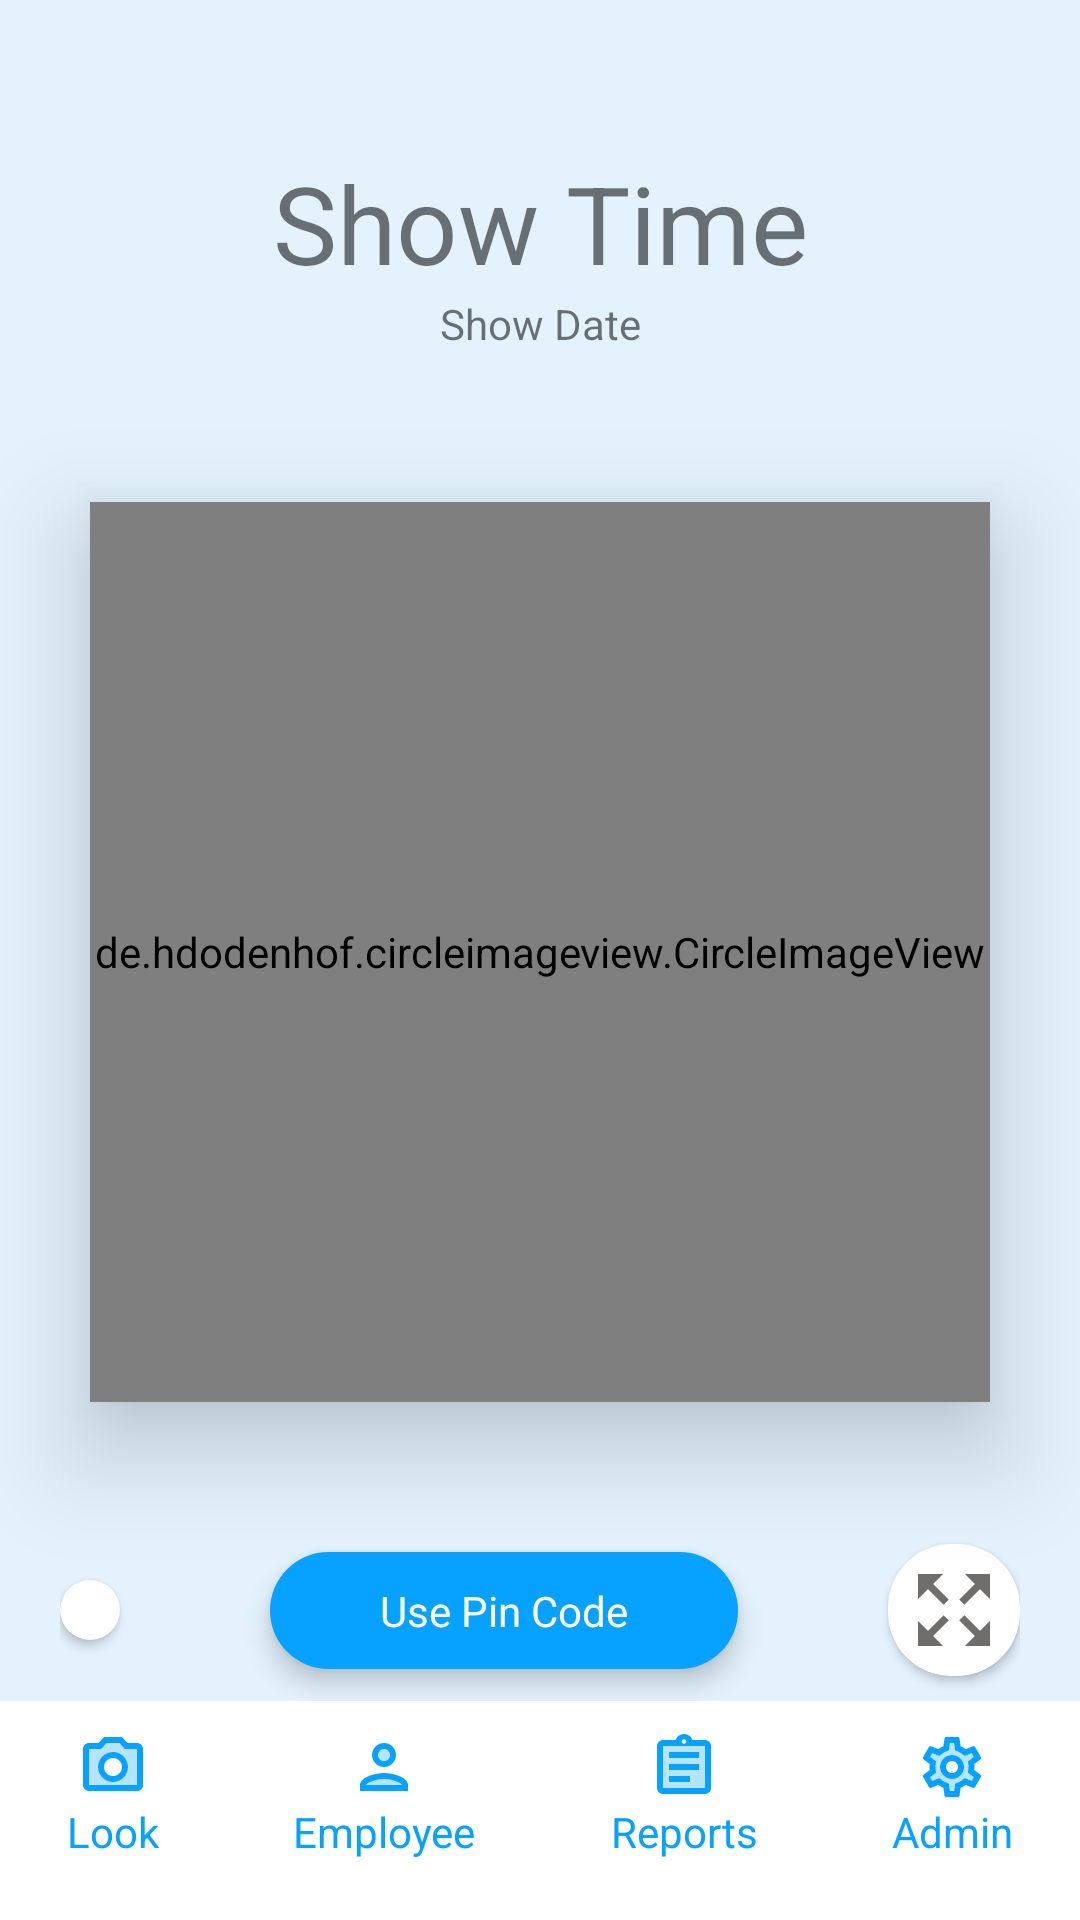

Screen size 1080x1920. Icon name, then its center in pixels as [x,y]:
fullscreen icon: [954,1610]
